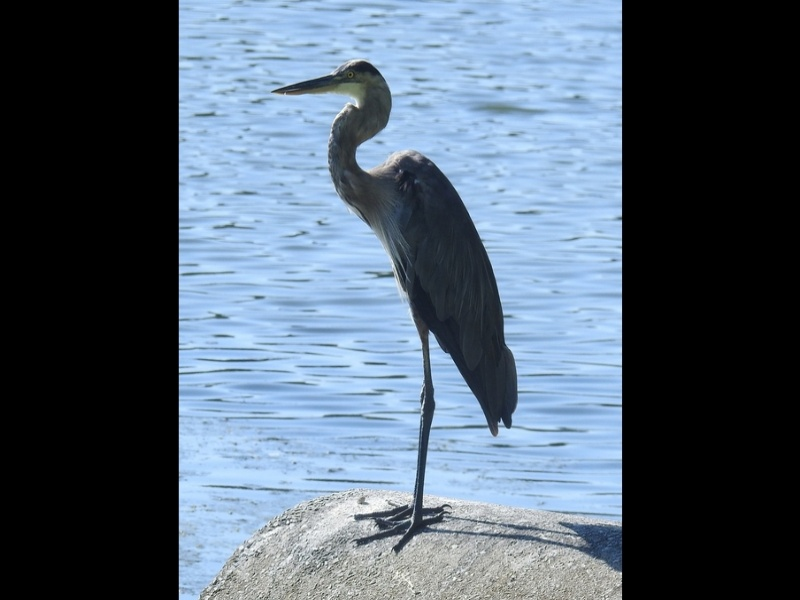heron: (269, 58, 519, 549)
